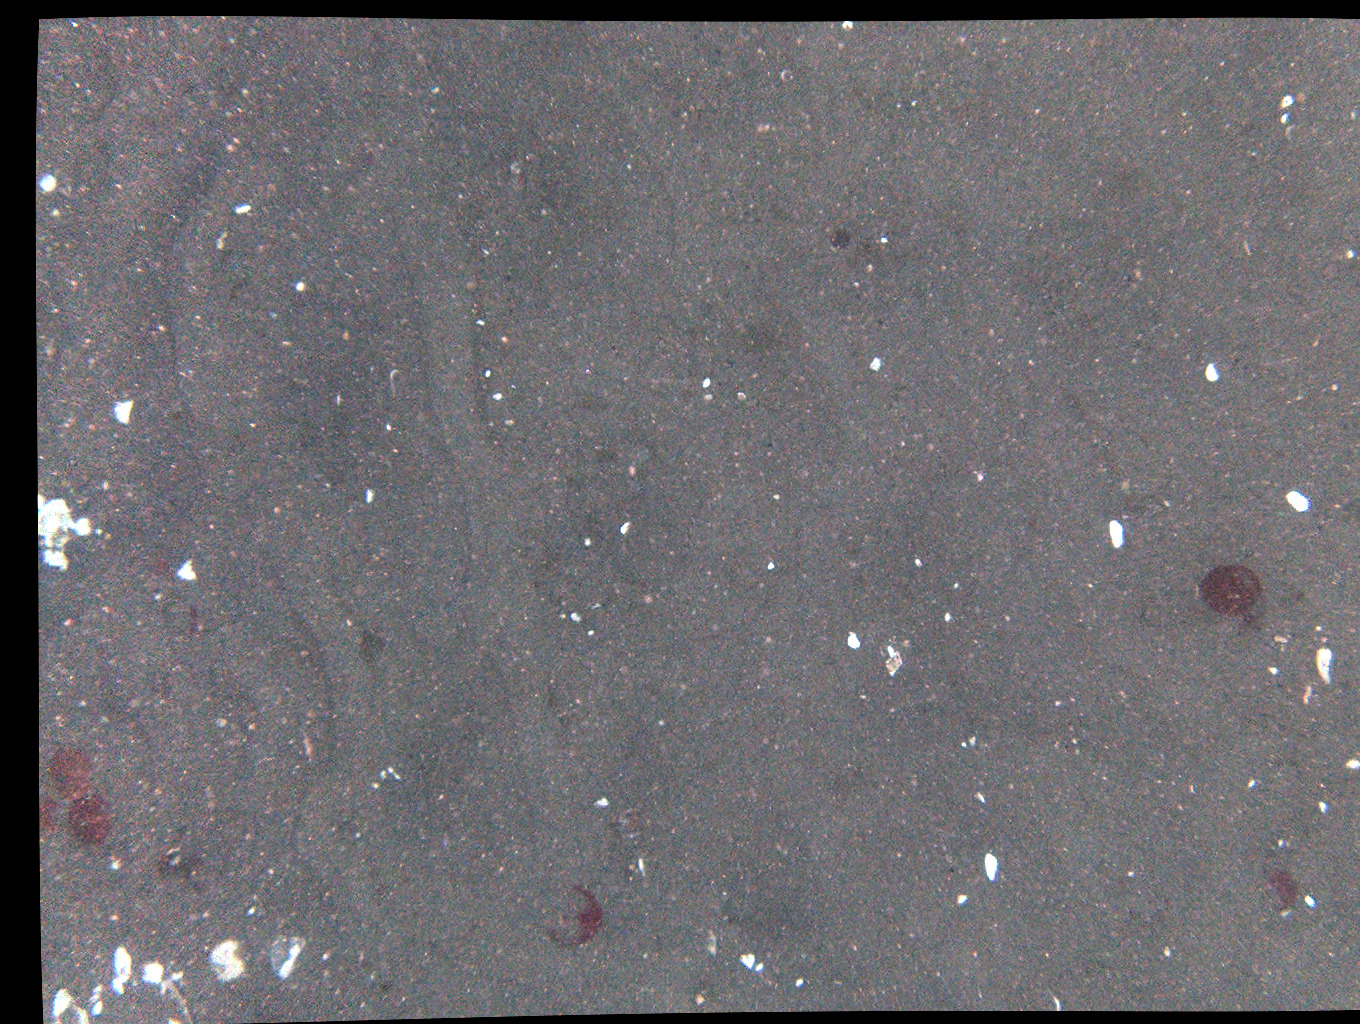Hermit crab: (609, 799, 657, 851)
Small shell hash: (127, 54, 147, 74)
Substrate A: (70, 54, 89, 76)
sand dollar: (1196, 561, 1264, 626), (1255, 848, 1323, 912), (550, 876, 618, 940), (30, 795, 75, 852), (47, 746, 92, 803), (70, 793, 115, 850)
